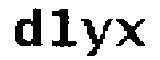1: (49, 6, 78, 53)
d: (8, 6, 45, 52)
x: (116, 14, 147, 49)
y: (78, 14, 113, 57)
